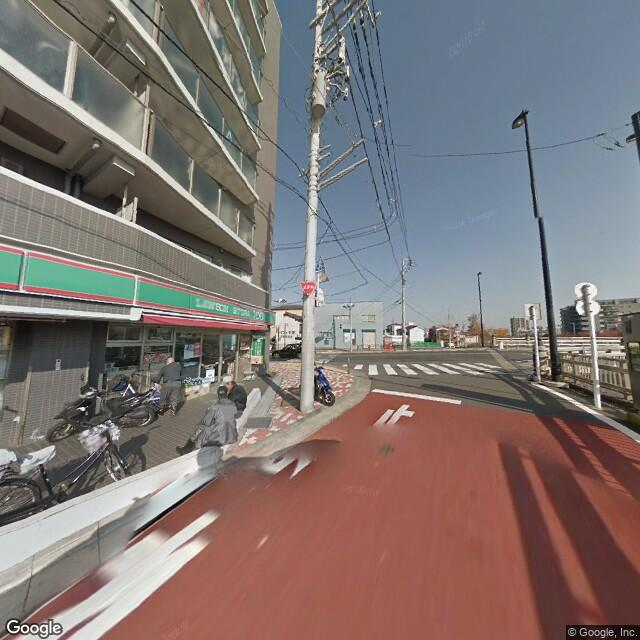lawson: (2, 234, 275, 327)
